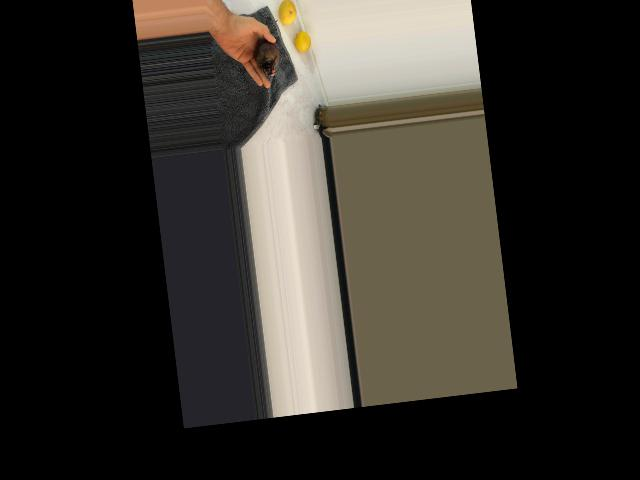beet: (250, 19, 284, 76)
